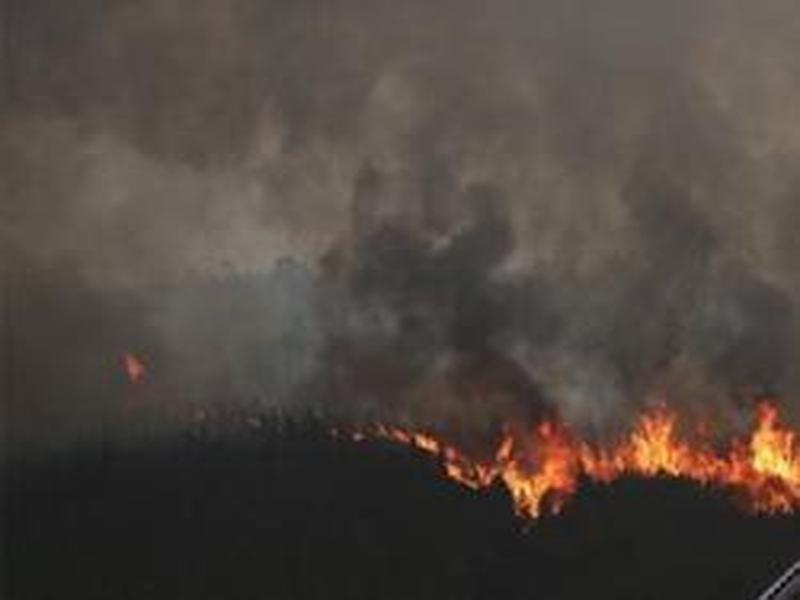FIRE: (252, 345, 800, 534)
